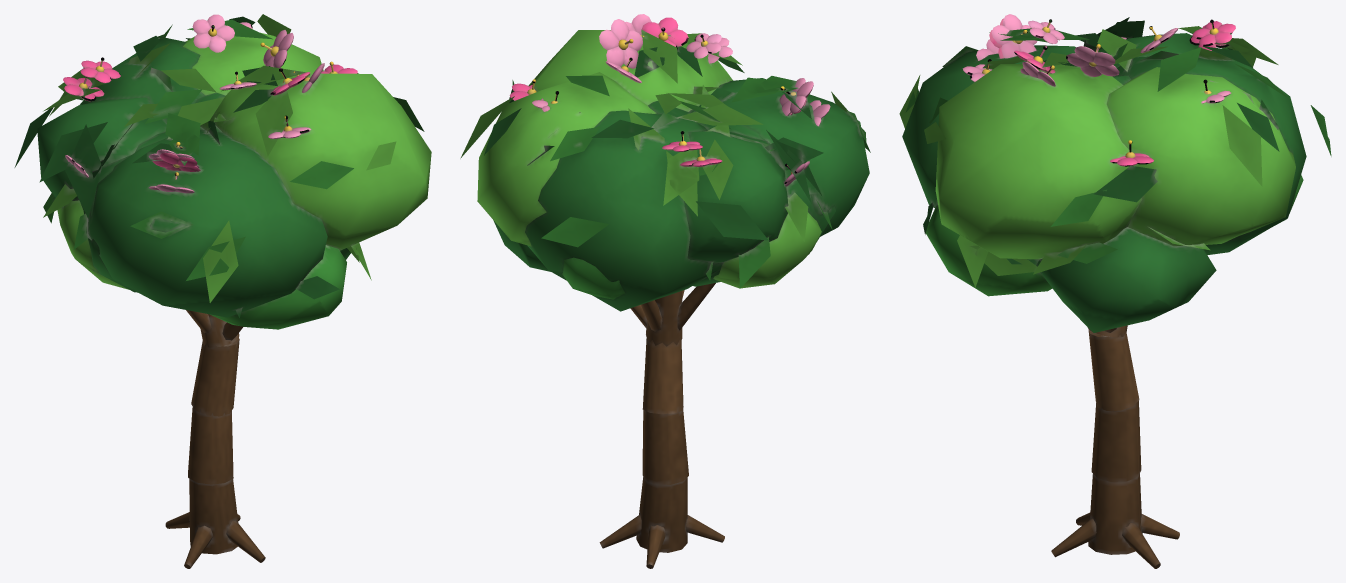
Rendered from en_jungle_tree.glb.
3 views of the same model, side by side, from view 1: azimuth 30°, elevation 25°; view 2: azimuth 150°, elevation 25°; view 3: azimuth 270°, elevation 25° (orthographic). The views are drawn at different scales.
Parts seen in each view (by area): view 1: en_jungle_tree; view 2: en_jungle_tree; view 3: en_jungle_tree.
Part boxes in pixels (x1,y1,x2,y2): en_jungle_tree: (14,14,431,568); en_jungle_tree: (460,14,870,568); en_jungle_tree: (899,14,1331,568).
Size of the model in its own units: 6.3 by 8.92 by 6.55.
Materials: 7 (7 with a texture image).
